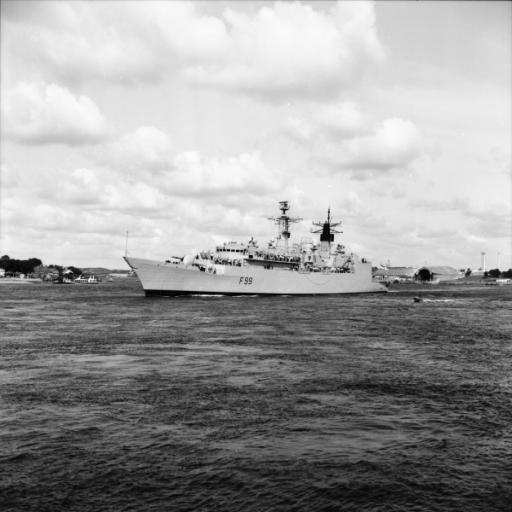Fragata: (120, 190, 387, 303)
